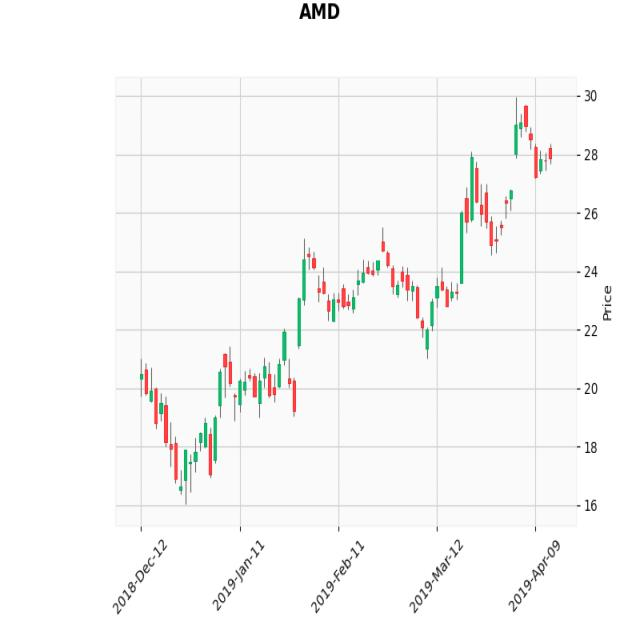Double-Bottom: (149, 376, 235, 506)
